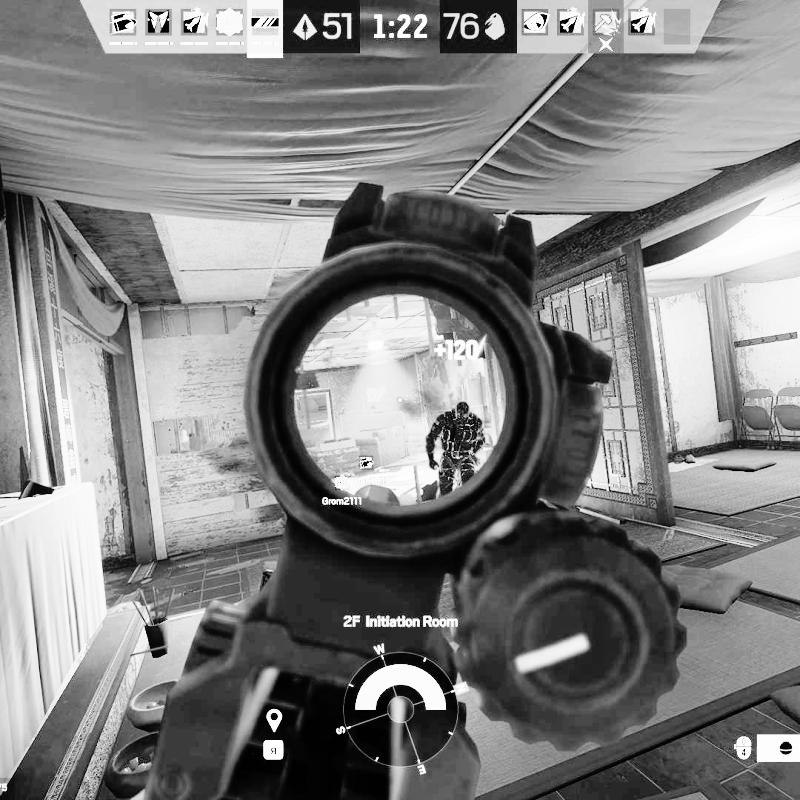Character: (425, 399, 494, 502)
Friend_label: (338, 454, 389, 486), (322, 478, 364, 506)
Head: (454, 400, 470, 417)
